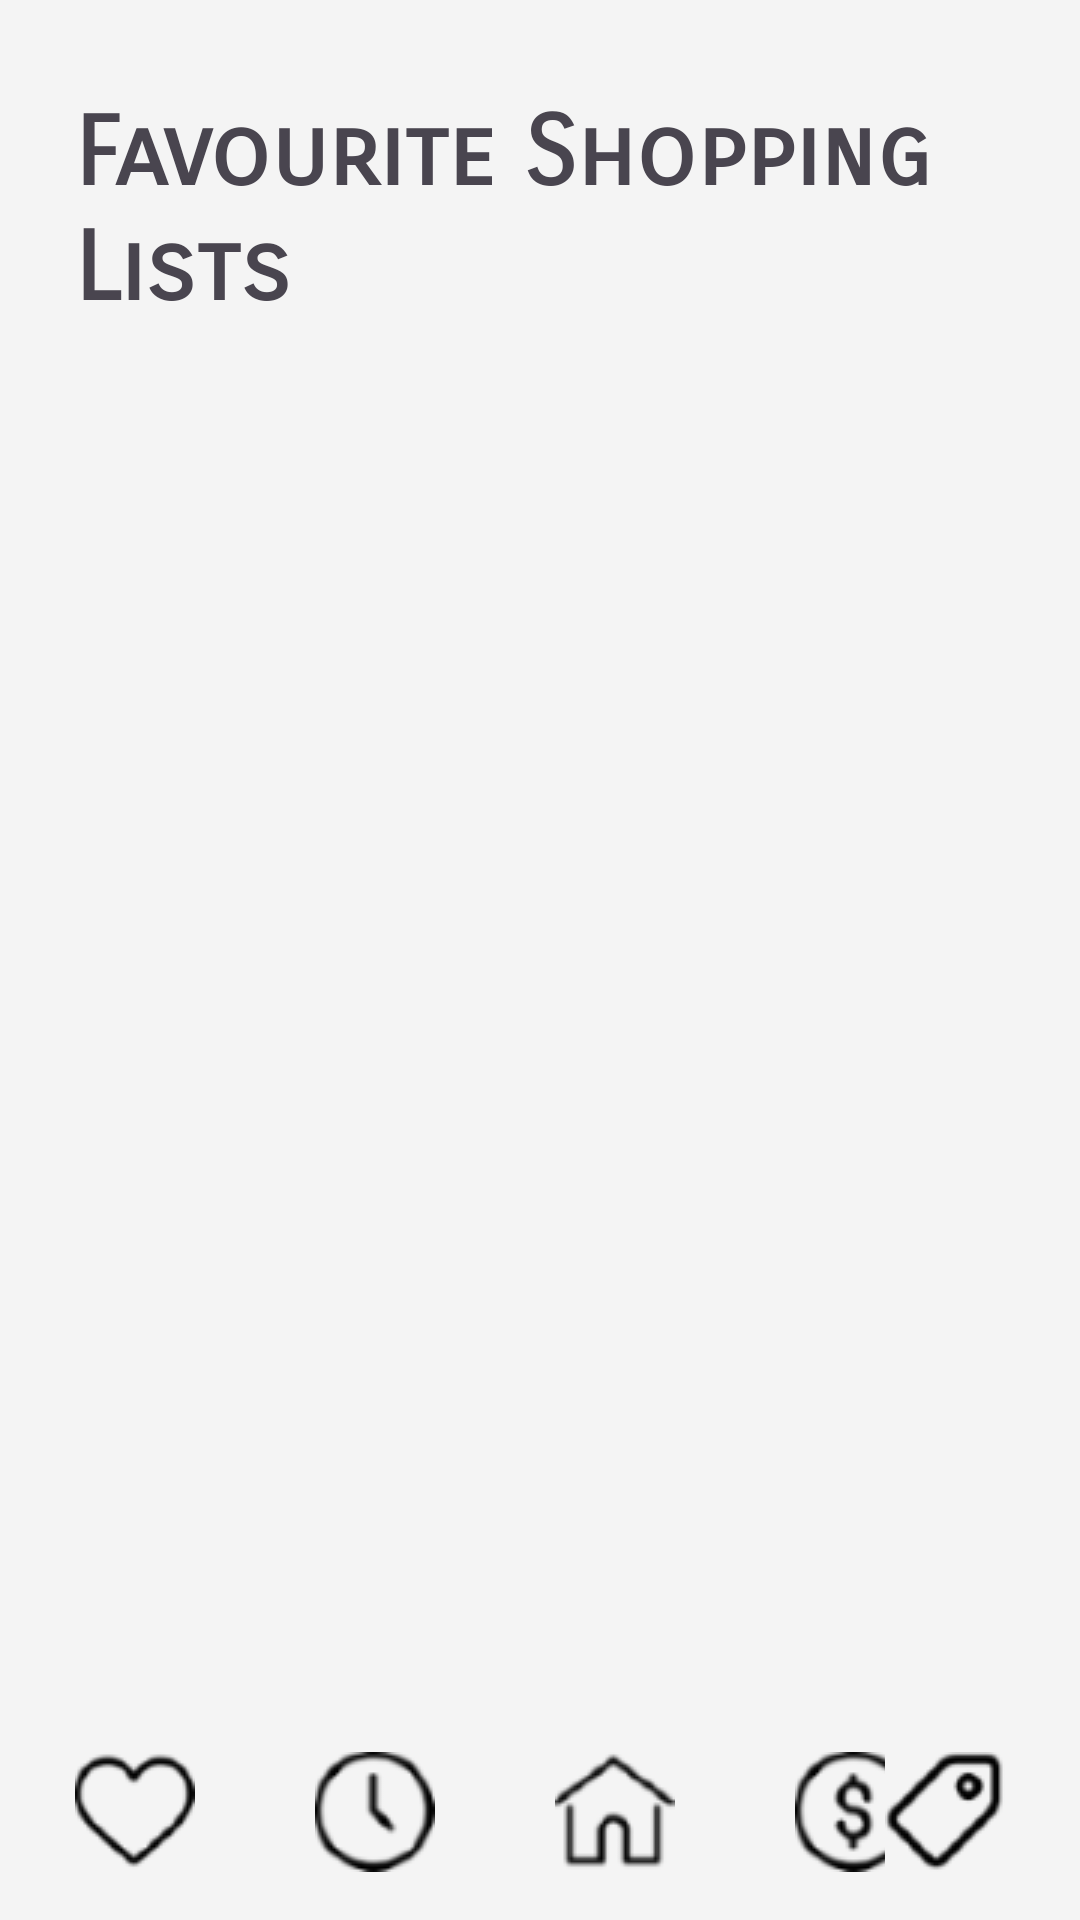

Icon bounding boxes for this 1080 x 1920 phone screenshot, format (x1, y1, x2, y2):
clock: (315, 1752, 435, 1872)
dollar: (795, 1752, 885, 1872)
heart hollow: (75, 1754, 195, 1867)
home: (555, 1754, 675, 1867)
sale: (885, 1752, 1003, 1869)
